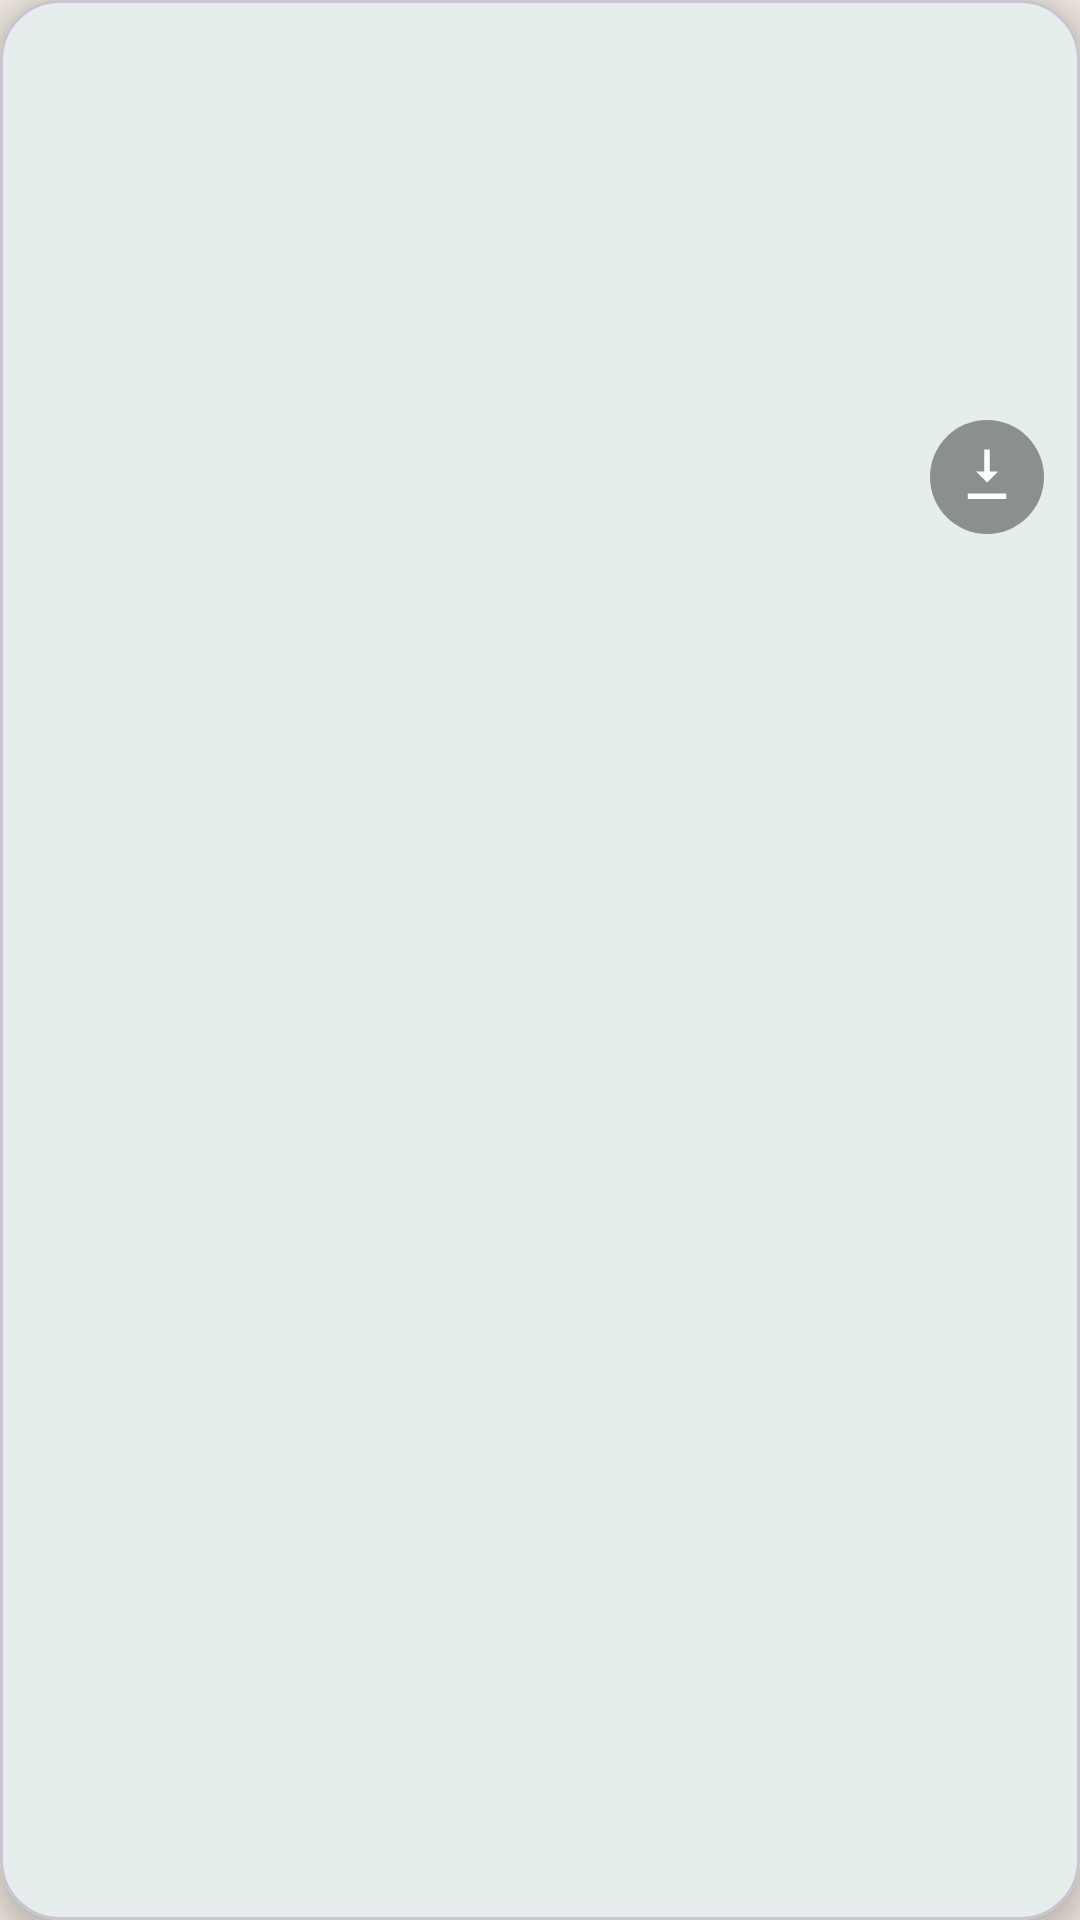

Screen size 1080 × 1920. Icon name, then its box in pixels as (x1, y1, x2, y2):
Download: (930, 420, 1044, 534)
